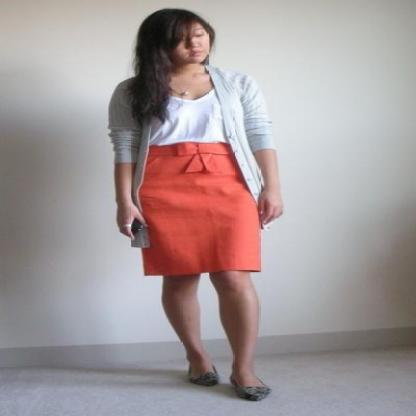jacket: (108, 61, 267, 200)
shirt: (143, 84, 231, 154)
skirt: (138, 142, 261, 278)
